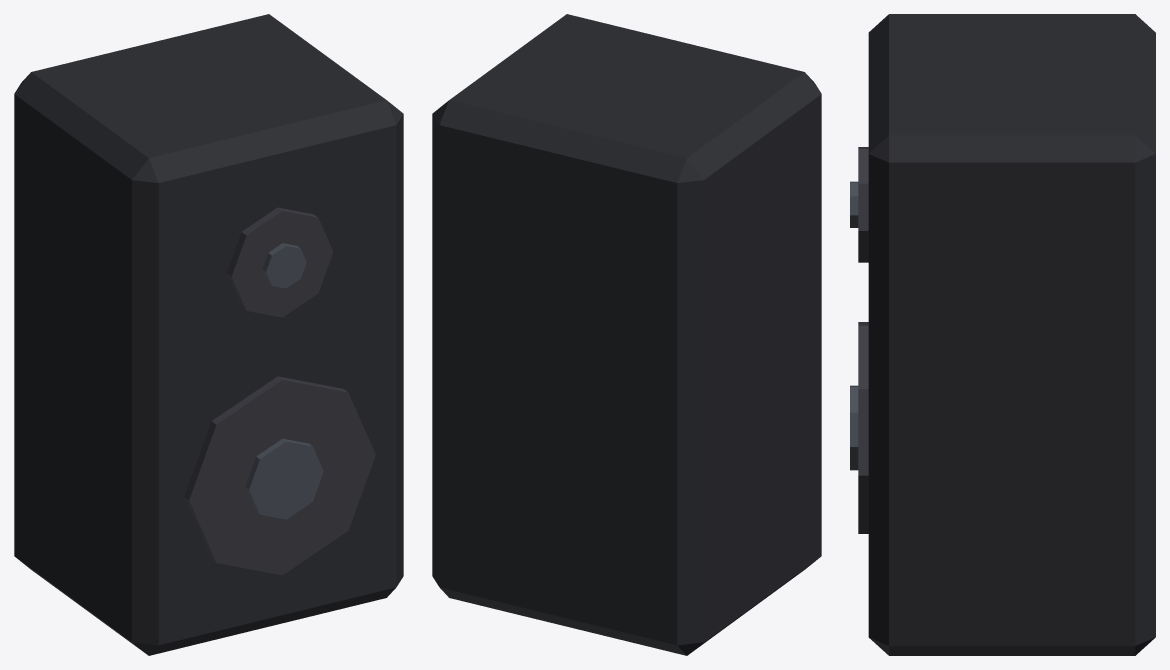
The model's file is Speaker.fbx.
The picture shows the model from 3 angles, left to right: view 1: azimuth 30°, elevation 25°; view 2: azimuth 150°, elevation 25°; view 3: azimuth 270°, elevation 25°; orthographic projection. The views are drawn at different scales.
Visible parts, largest first — view 1: Speaker; view 2: Speaker; view 3: Speaker.
Boxes of the visible parts, x1,y1,x2,y2 form: Speaker: (14,14,403,655); Speaker: (432,14,821,655); Speaker: (850,14,1155,655).
Size of the model in its own units: 1.6 by 2.8 by 1.49.
Materials: 1 (1 with a texture image).
